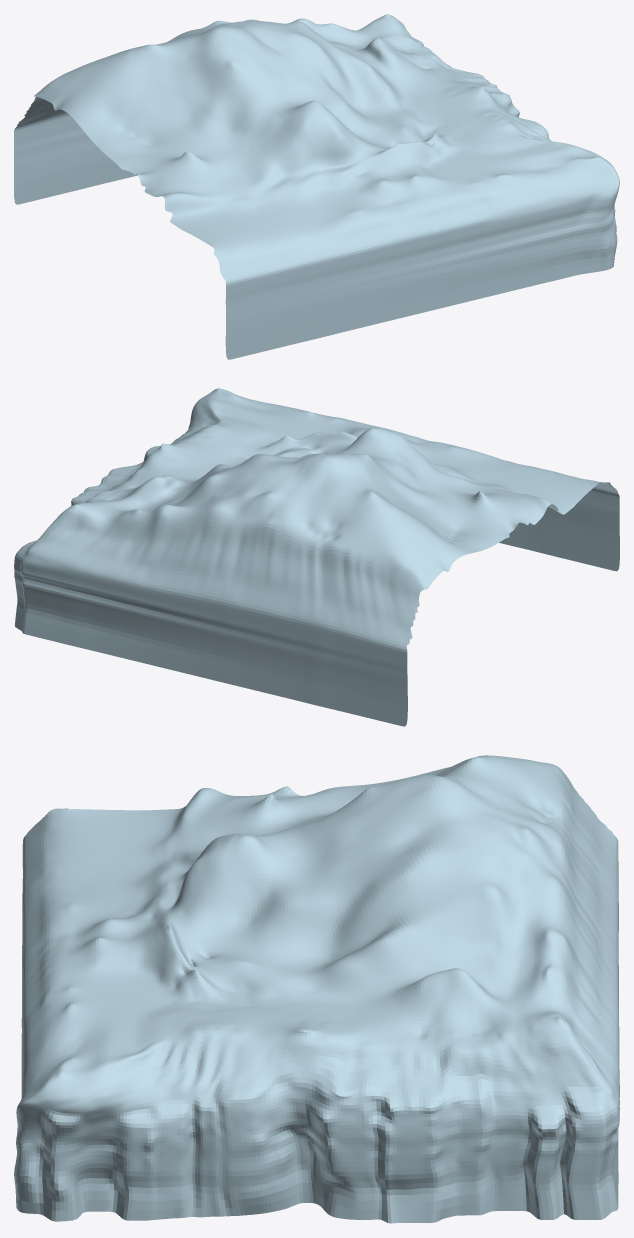
Rendered from ParedGlaciar3.fbx.
The picture shows the model from 3 angles, top to bottom: view 1: azimuth 30°, elevation 25°; view 2: azimuth 150°, elevation 25°; view 3: azimuth 270°, elevation 25°; orthographic projection. The views are drawn at different scales.
Parts seen in each view (by area): view 1: Plane.003; view 2: Plane.003; view 3: Plane.003.
Boxes of the visible parts, x1,y1,x2,y2 form: Plane.003: [14, 14, 619, 359]; Plane.003: [14, 388, 619, 726]; Plane.003: [14, 755, 619, 1223].
Size of the model in its own units: 14489 by 6427 by 13318.
